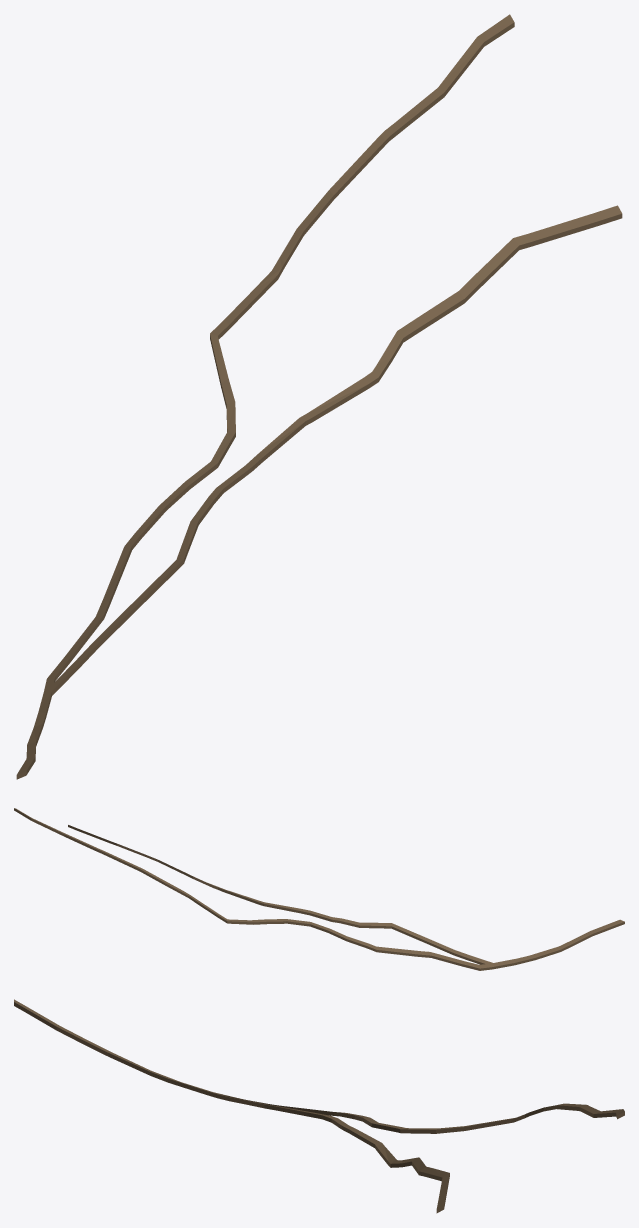
3 renders of one model, top to bottom at view 1: azimuth 30°, elevation 25°; view 2: azimuth 150°, elevation 25°; view 3: azimuth 270°, elevation 25°, orthographic. The views are drawn at different scales.
Size of the model in its own units: 132 by 48.46 by 97.28.
